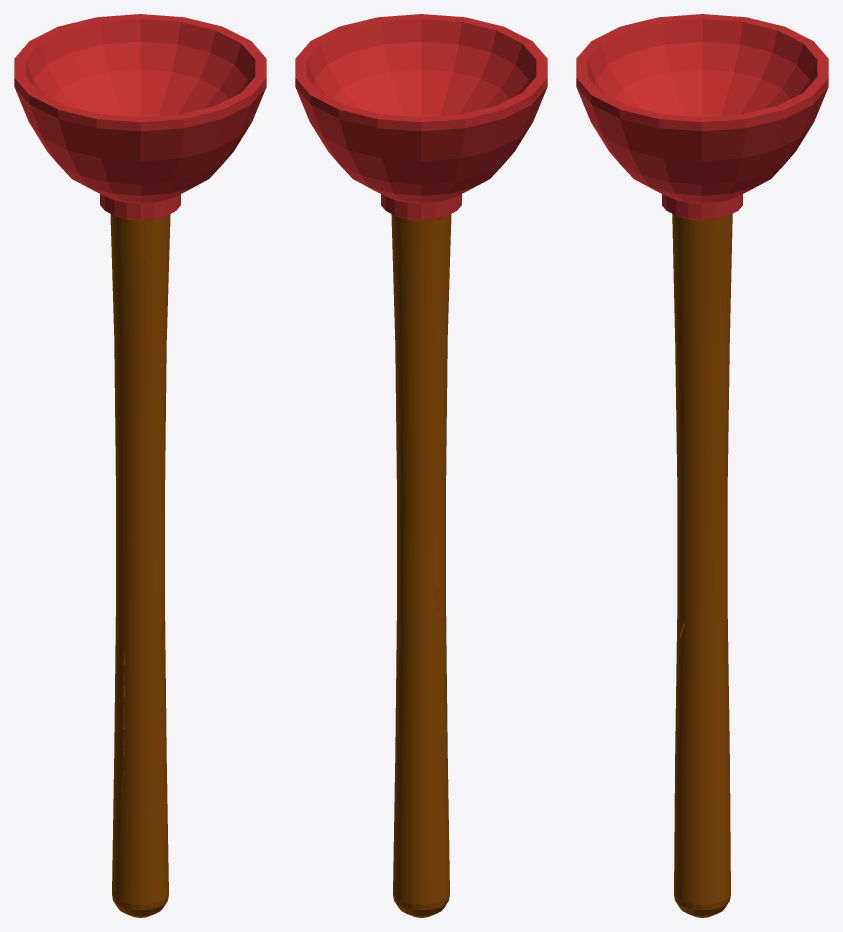
The model's file is Plunger Textured.fbx.
3 views of the same model, side by side, from view 1: azimuth 30°, elevation 25°; view 2: azimuth 150°, elevation 25°; view 3: azimuth 270°, elevation 25° (orthographic).
Parts seen in each view (by area): view 1: Cylinder001; view 2: Cylinder001; view 3: Cylinder001.
Part boxes in pixels (x1,y1,x2,y2): Cylinder001: (14, 14, 266, 917); Cylinder001: (295, 14, 547, 917); Cylinder001: (576, 14, 828, 917).
Size of the model in its own units: 2.02 by 7.35 by 1.99.
1 material, 1 textured.
